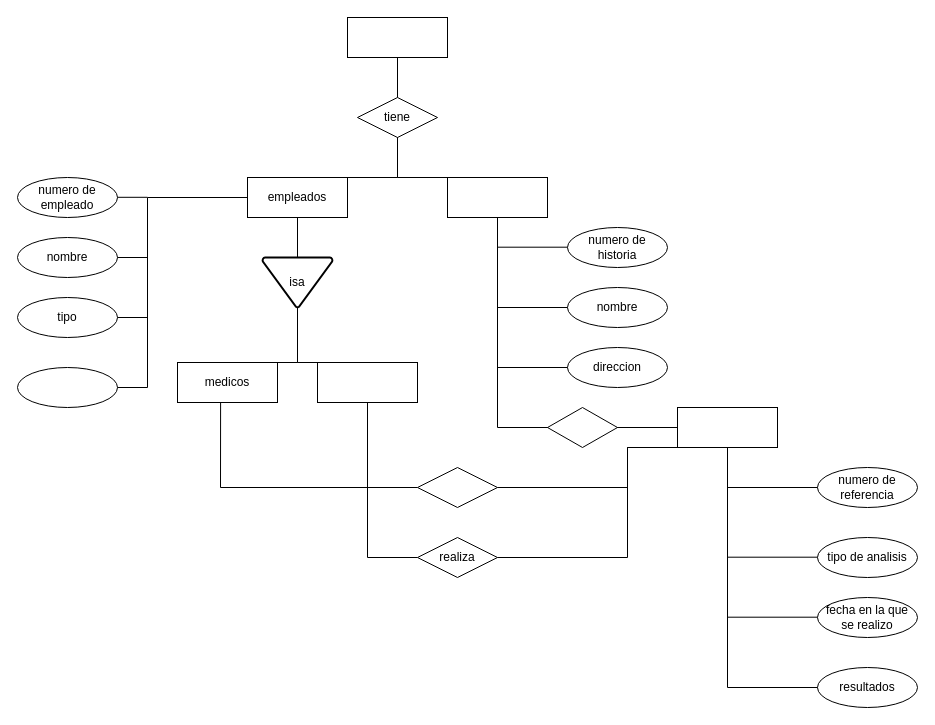
The diagram is 935 pixels wide and 725 high, and some of its shapes have lost their labels. The centre of each missing label's shape, as x and y in pixels:
"analisis realizados" goes at (x=727, y=427).
"ats" goes at (x=367, y=382).
"especialidad" goes at (x=67, y=387).
"hospital" goes at (x=397, y=37).
"pacientes" goes at (x=497, y=197).
"solicita" goes at (x=457, y=487).
"tienen" goes at (x=582, y=427).
